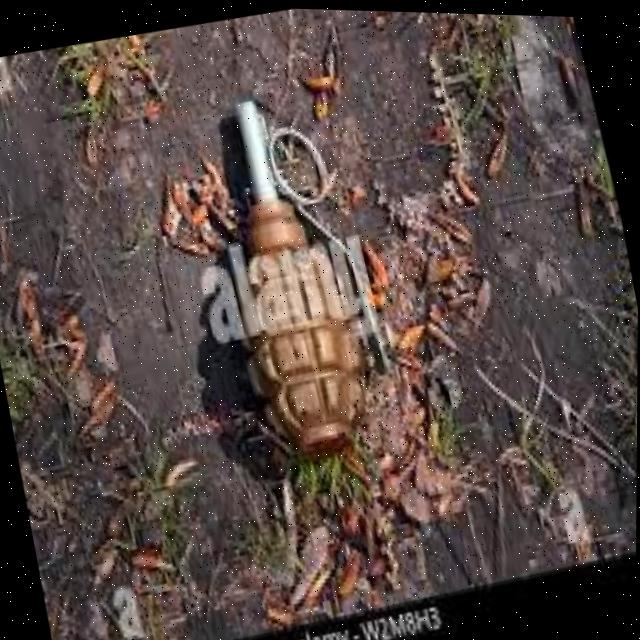grenade: (157, 71, 401, 488)
